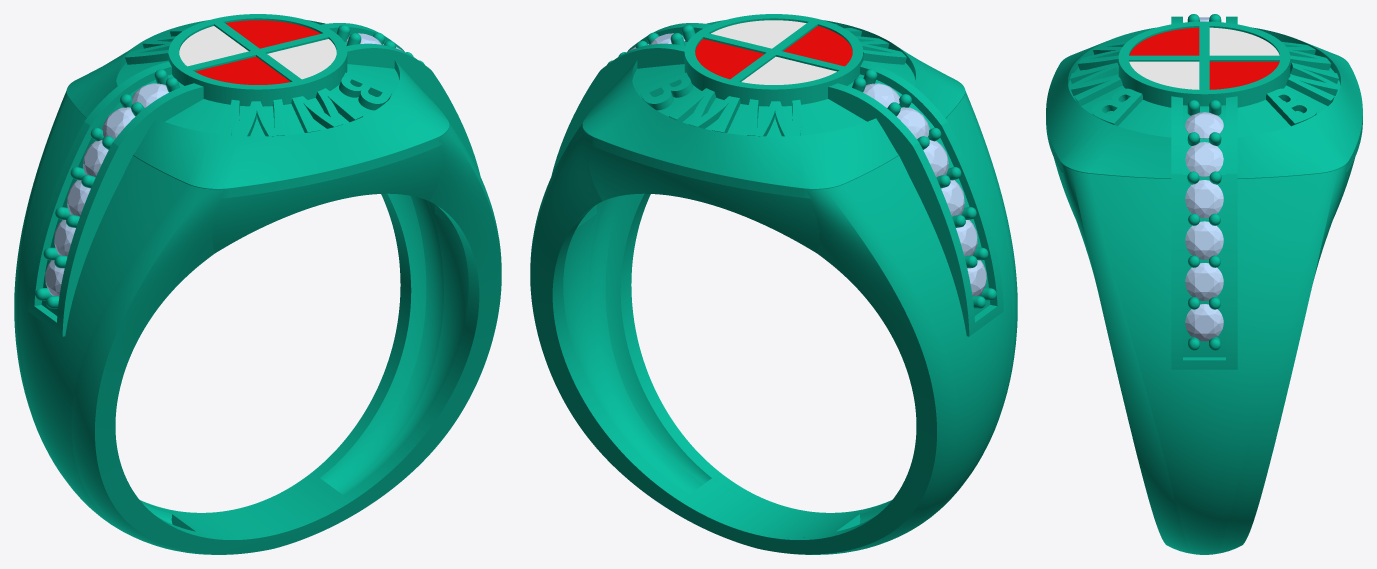
The picture shows the model from 3 angles, left to right: view 1: azimuth 30°, elevation 25°; view 2: azimuth 150°, elevation 25°; view 3: azimuth 270°, elevation 25°; orthographic projection. The views are drawn at different scales.
Visible parts, largest first — view 1: 94 Anillo Hombre BMW.3dm, Diamond_Round (×2); view 2: 94 Anillo Hombre BMW.3dm, Diamond_Round (×2); view 3: 94 Anillo Hombre BMW.3dm, Diamond_Round (×6).
Boxes of the visible parts, x1,y1,x2,y2 form: 94 Anillo Hombre BMW.3dm: (14,14,501,554); Diamond_Round (×2): (83,107,135,177); 94 Anillo Hombre BMW.3dm: (530,14,1017,554); Diamond_Round (×2): (896,107,948,177); 94 Anillo Hombre BMW.3dm: (1046,16,1362,554); Diamond_Round (×6): (1185,112,1223,341).
Bounding box in the file's own units: 2.47 × 2.69 × 1.63.
